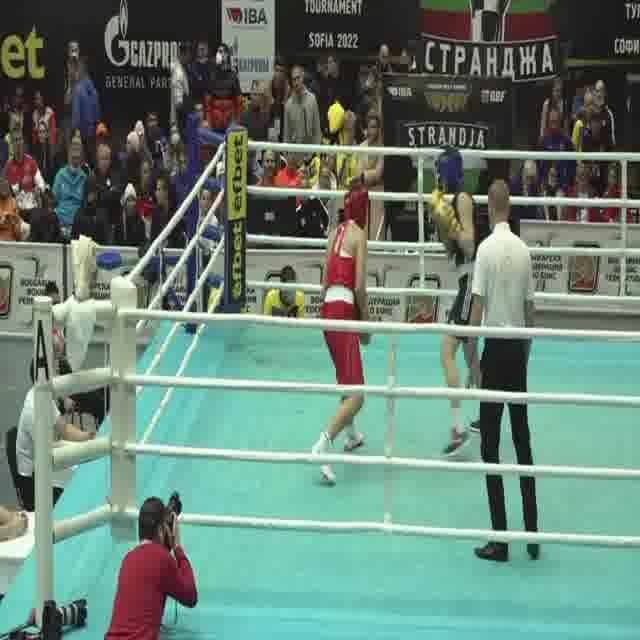blue-player: (425, 142, 494, 463)
red-player: (306, 179, 375, 489)
referee: (464, 177, 544, 566)
